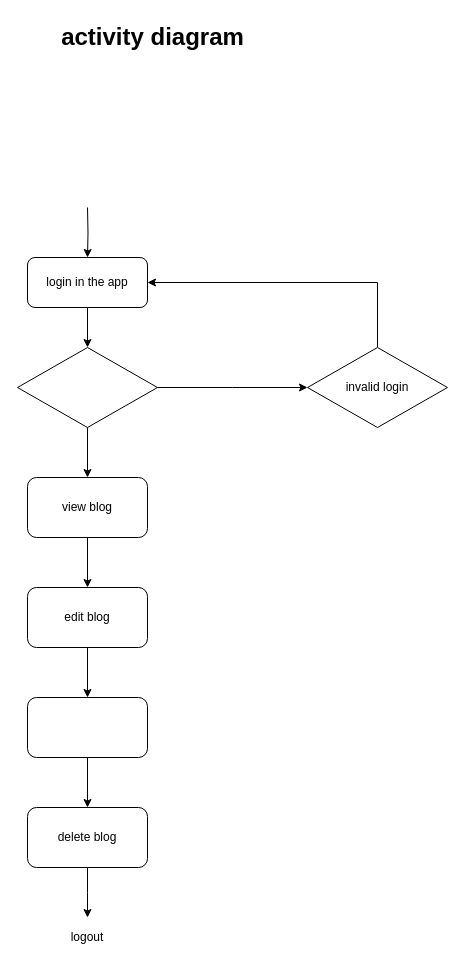
The diagram is 465 pixels wide and 964 high, and some of its shapes have lost their labels. The shapes that lost their labels are listed below. From the top down, each one's box as (x1, y1, x2, y2) in pixels, then its label:
(16, 346, 158, 428): check login
(26, 696, 148, 758): add blog
